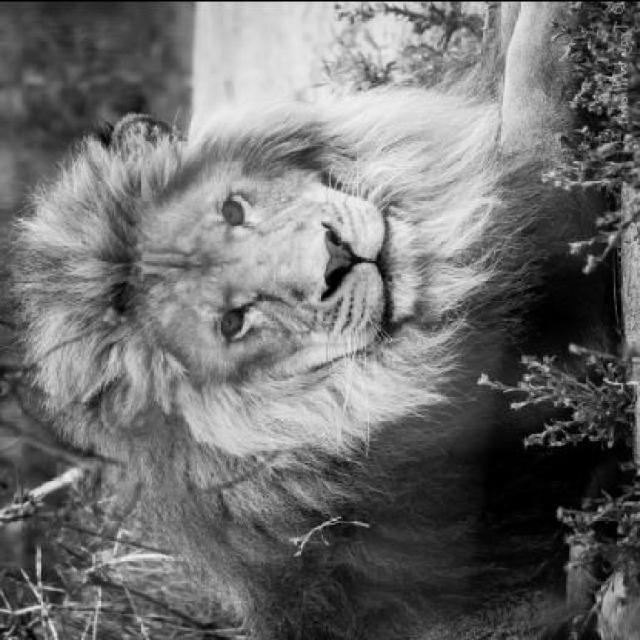Lion: (16, 4, 622, 638)
